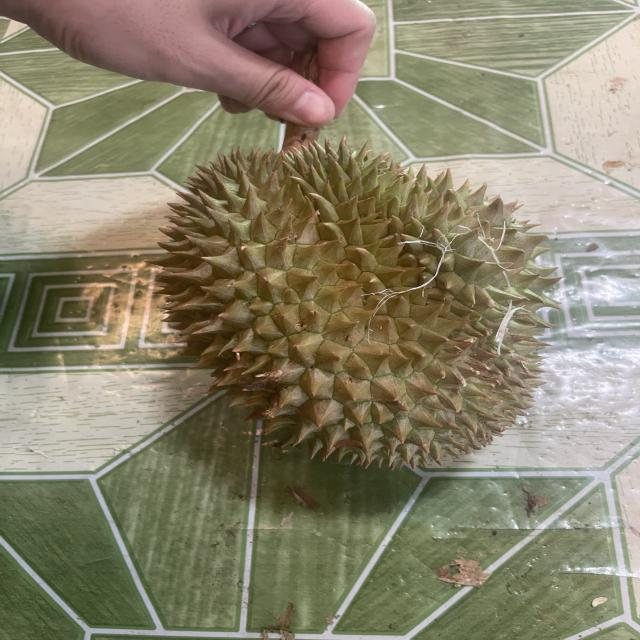mature: (151, 140, 574, 494)
